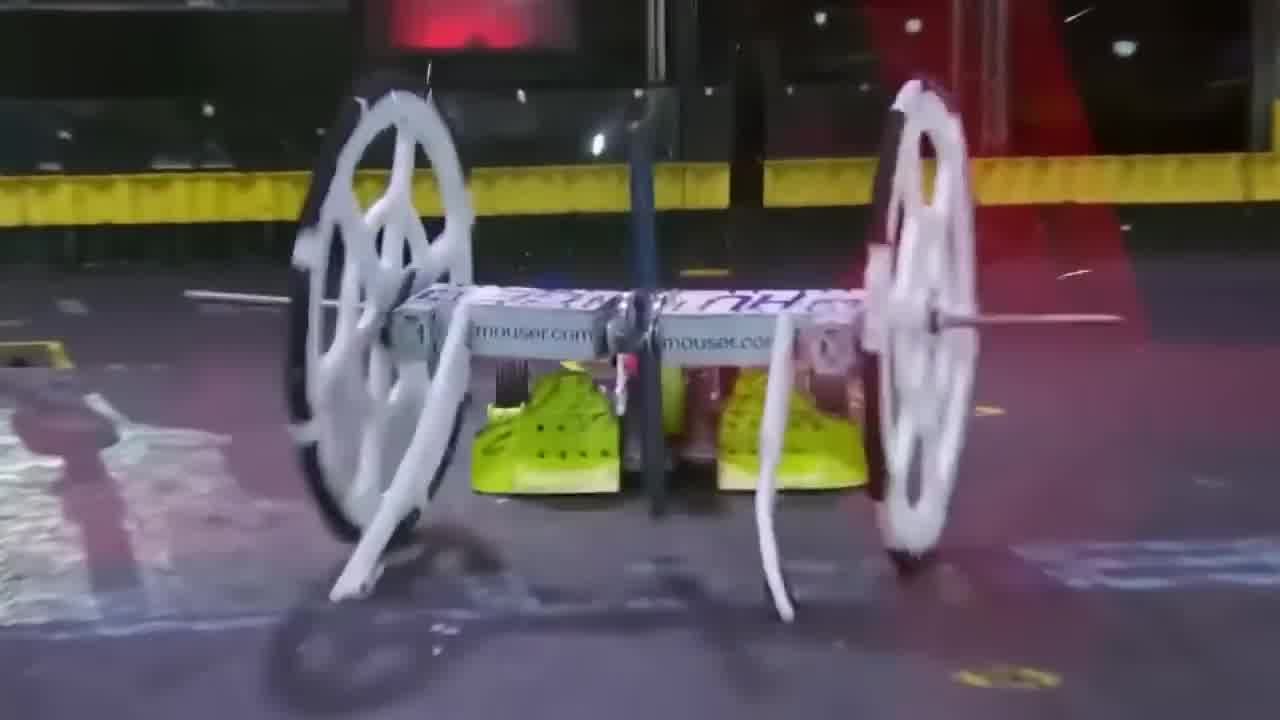combatbot: (284, 73, 983, 565), (469, 355, 874, 498)
